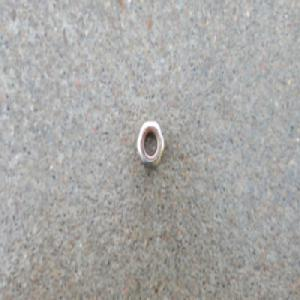Nut: (134, 120, 164, 169)
